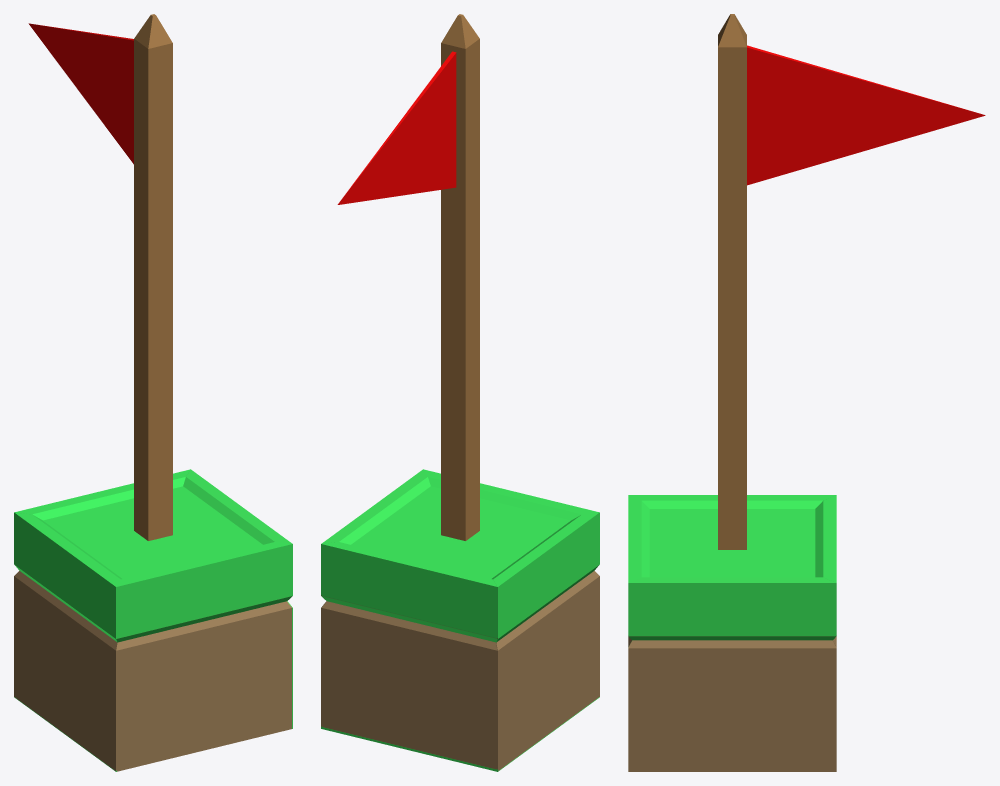
The model's file is Tile_End.fbx.
3 renders of one model, left to right at view 1: azimuth 30°, elevation 25°; view 2: azimuth 150°, elevation 25°; view 3: azimuth 270°, elevation 25°, orthographic. The views are drawn at different scales.
Visible parts, largest first — view 1: Cube; view 2: Cube; view 3: Cube.
Boxes of the visible parts, left/top/right/bottom form: Cube: left=14, top=14, right=292, bottom=771; Cube: left=321, top=14, right=599, bottom=771; Cube: left=628, top=14, right=985, bottom=771.
Bounding box in the file's own units: 200 × 755 × 343.
